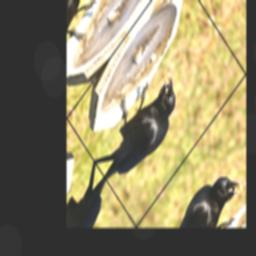Crow: (86, 50, 190, 202)
